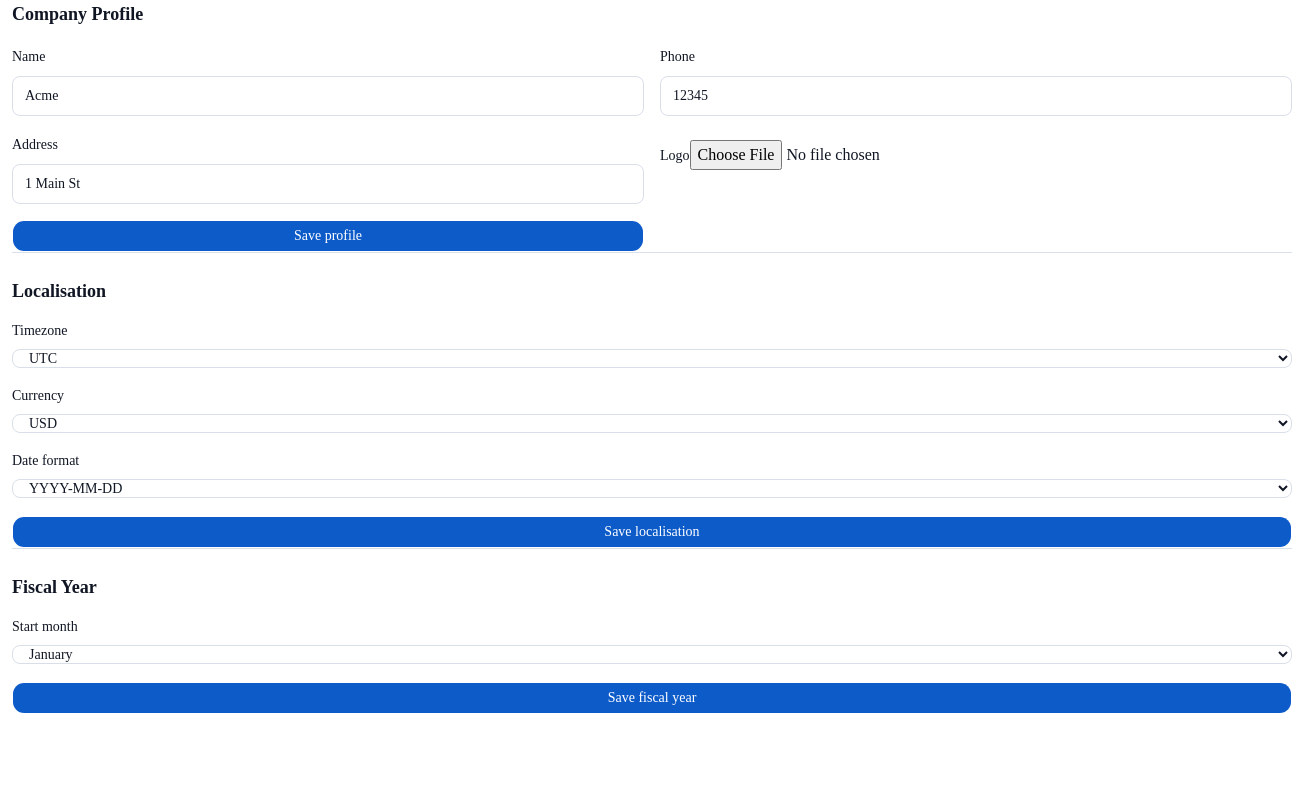
CompanySettingsForm › shows an error toast and reverts the edited section when save fails
Replace the text in the field showing "Acme" with "Changed Co" at [328, 96], box [12,76,644,116]
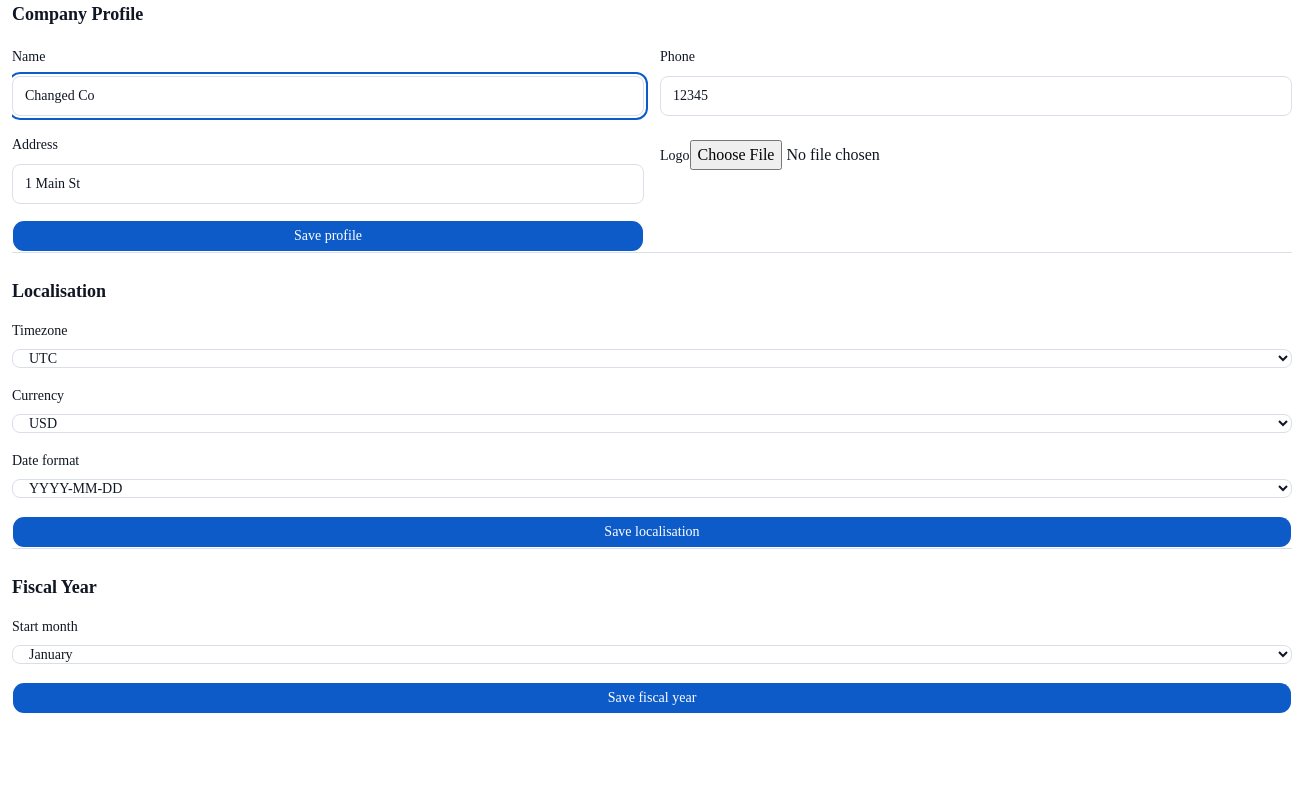
Click the button "Save profile" at [328, 236], box [12,220,644,252]
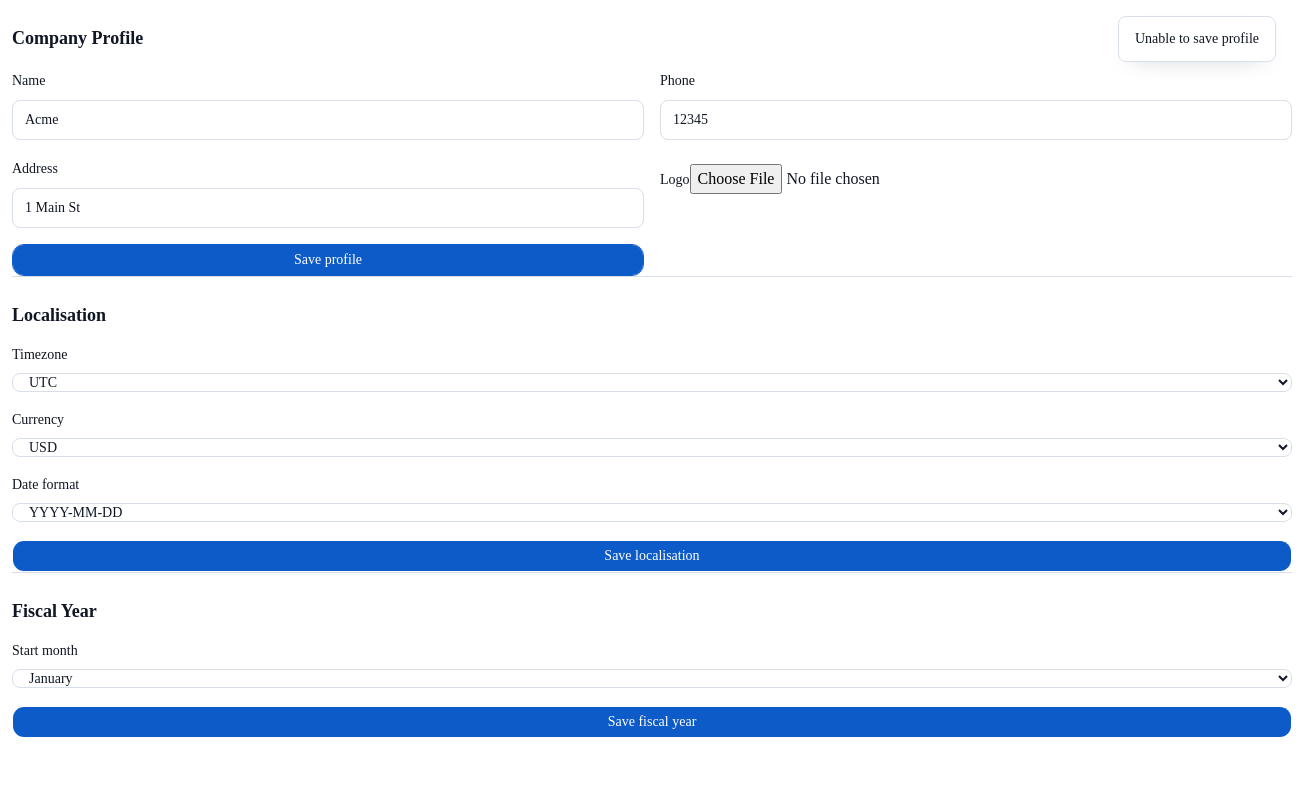
Expected: the message reads "Unable to save profile", [1135,31,1259,46]
Expected: the field showing "Acme" is shown, [12,100,644,140]
